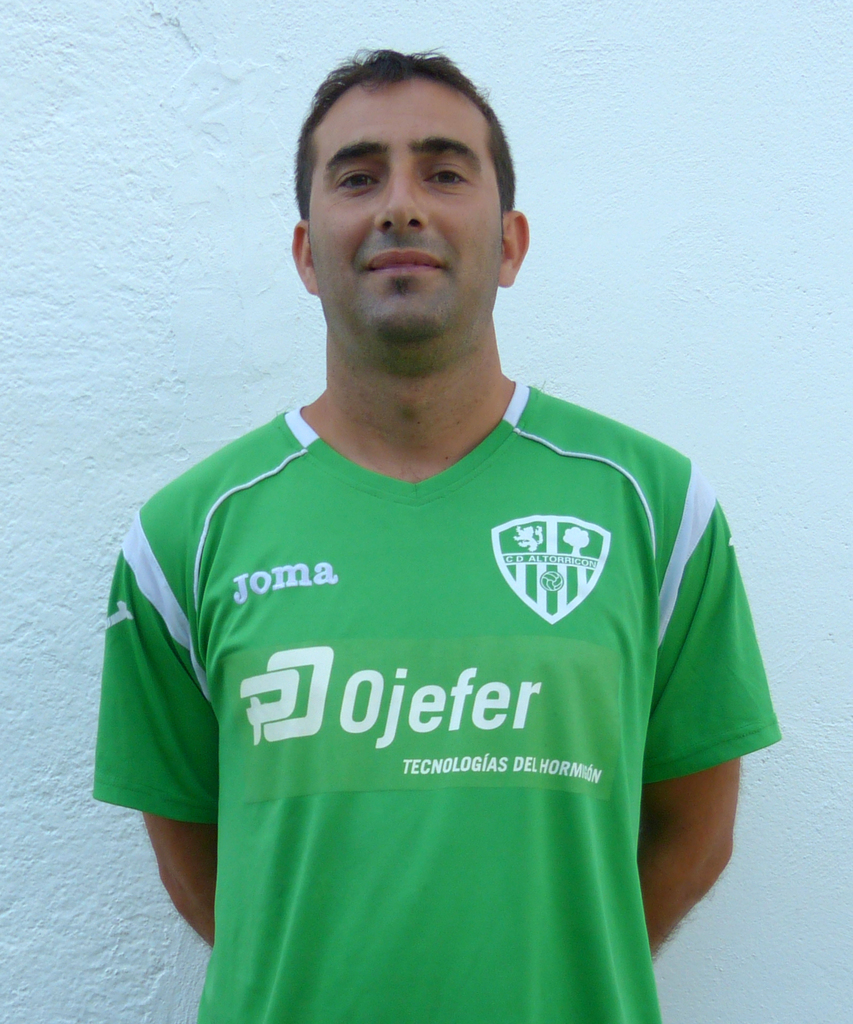Person: (92, 46, 781, 1023)
